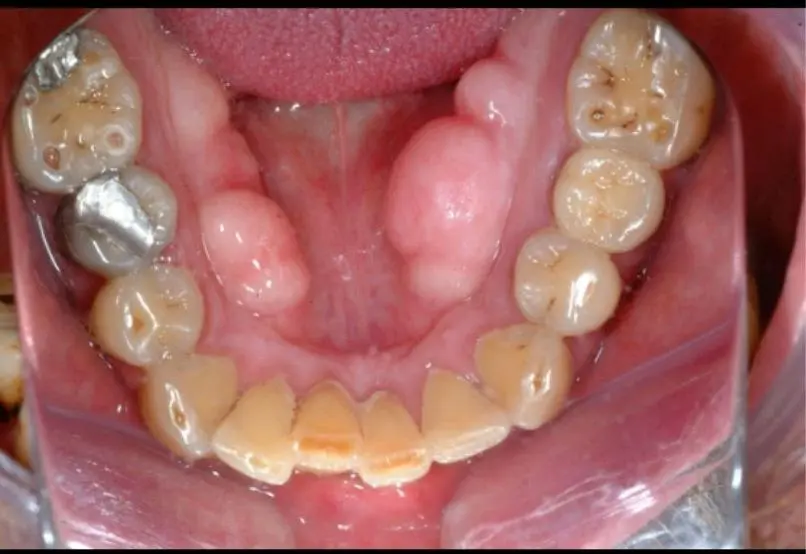LL1BC_decay: (513, 236, 612, 327)
LL1M_decay: (572, 21, 701, 160)
LL2BC_decay: (554, 153, 655, 247)
LLCI_decay: (357, 387, 427, 485)
LLC_decay: (483, 330, 569, 423)
LLLI_healthy: (418, 371, 504, 460)
LR1BC_decay: (98, 275, 203, 360)
LR1M_decay: (28, 51, 133, 172)
LR2BC_decay: (72, 174, 173, 267)
LRCI_decay: (293, 382, 358, 472)
LRC_decay: (155, 357, 233, 447)
LRLI_healthy: (227, 388, 294, 487)
